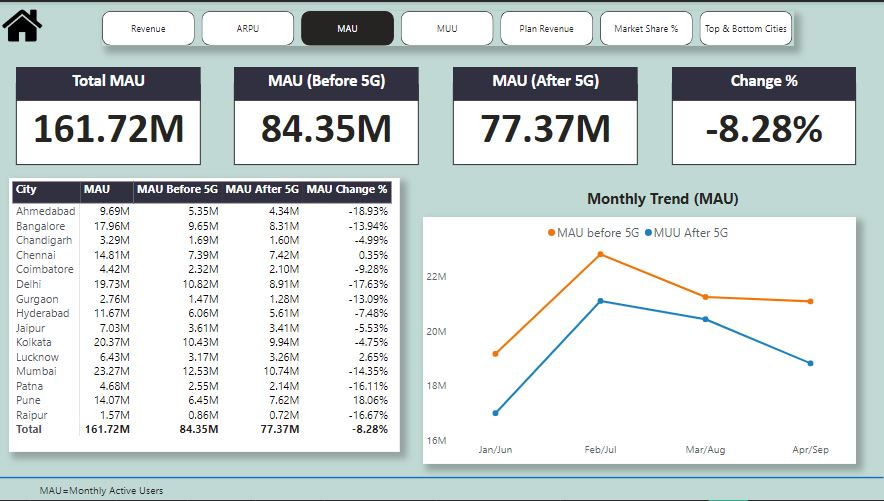

The dashboard page shown, as its layout file describes it:
{"tool":"powerbi","page":{"name":"MAU","canvas":[1280,720],"ordinal":3},"visuals":[{"type":"card","fields":{"Values":["Key Measures.Monthly Active Users"]},"box":[26,118.6,267.5,117.1],"z":0},{"type":"pivotTable","fields":{"Rows":["dim_cities.city_name"],"Values":["Key Measures.Monthly Active Users","Key Measures.Monthly Active Users before 5G","Key Measures.Monthly Active Users After 5G","Key Measures.Active Users Change %"]},"box":[15.9,254.5,565.3,396.1],"z":1000},{"type":"lineChart","fields":{"Category":["dim_date.Time Period Lable"],"Y":["Key Measures.Monthly Active Users before 5G","Key Measures.Monthly Active Users After 5G"]},"box":[614.5,310.8,626,357.1],"z":2000},{"type":"card","fields":{"Values":["Key Measures.Monthly Active Users before 5G"]},"box":[341.2,118.6,267.5,117.1],"z":3000},{"type":"card","fields":{"Values":["Key Measures.Monthly Active Users After 5G"]},"box":[658.3,118.6,267.5,117.1],"z":4000},{"type":"card","fields":{"Values":["Key Measures.Active Users Change %"]},"box":[974.5,118.6,266,117.1],"z":5000},{"type":"shape","box":[0,654.8,1279.8,65.2],"z":6000},{"type":"textbox","box":[0,690.2,299.1,29.8],"z":7000},{"type":"textbox","box":[26,94,267.5,49.2],"z":8000},{"type":"textbox","box":[341.2,94,267.5,49.2],"z":9000},{"type":"textbox","box":[657.8,94,267.5,49.2],"z":10000},{"type":"textbox","box":[974.5,94,266,49.2],"z":11000},{"type":"textbox","box":[779.3,264.6,364.3,43.4],"z":12000},{"type":"pageNavigator","title":"Revenue","box":[150.4,13,1000.5,50.6],"z":13000},{"type":"image","box":[0,0,69.4,68],"z":13001}]}

Visuals, with their boxes in screenshot pixels (x1, y1, x2, y2), scaled from the page's 1280x720 canvas onto the 884x501 screenshot:
card - Key Measures.Monthly Active Users: 18,83,203,164
pivotTable - dim_cities.city_name x Key Measures.Monthly Active Users: 11,177,401,453
lineChart - dim_date.Time Period Lable x Key Measures.Monthly Active Users before 5G: 424,216,857,465
card - Key Measures.Monthly Active Users before 5G: 236,83,420,164
card - Key Measures.Monthly Active Users After 5G: 455,83,639,164
card - Key Measures.Active Users Change %: 673,83,857,164
shape: 0,456,883,500
textbox: 0,480,207,500
textbox: 18,65,203,100
textbox: 236,65,420,100
textbox: 454,65,639,100
textbox: 673,65,857,100
textbox: 538,184,790,214
"Revenue" pageNavigator: 104,9,795,44
image: 0,0,48,47
